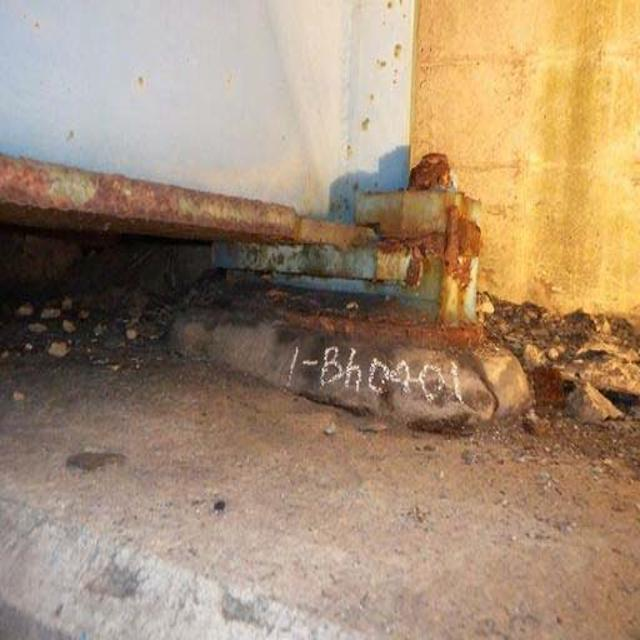corrosion: (7, 126, 507, 360)
